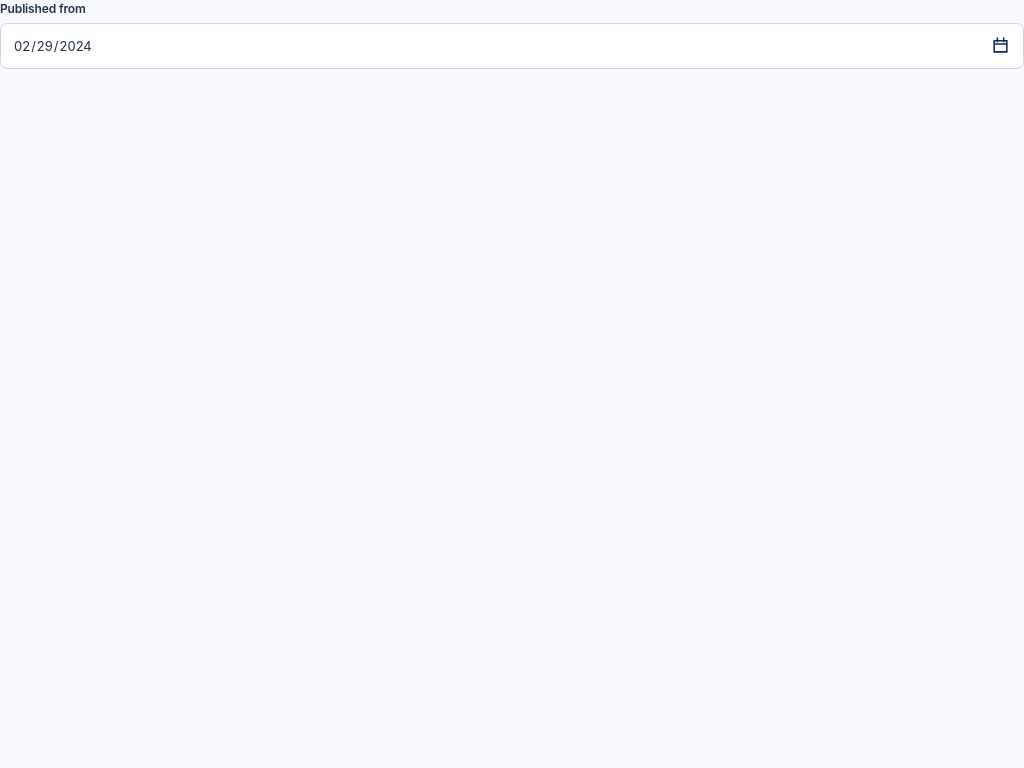
it: repeat keyboard month navigation and header selectors retain their own focus without selecting a date
Later steps or results of the test are not shown.
Click the button named "Choose date for Published from" at (1000,46), box [982, 29, 1018, 63]
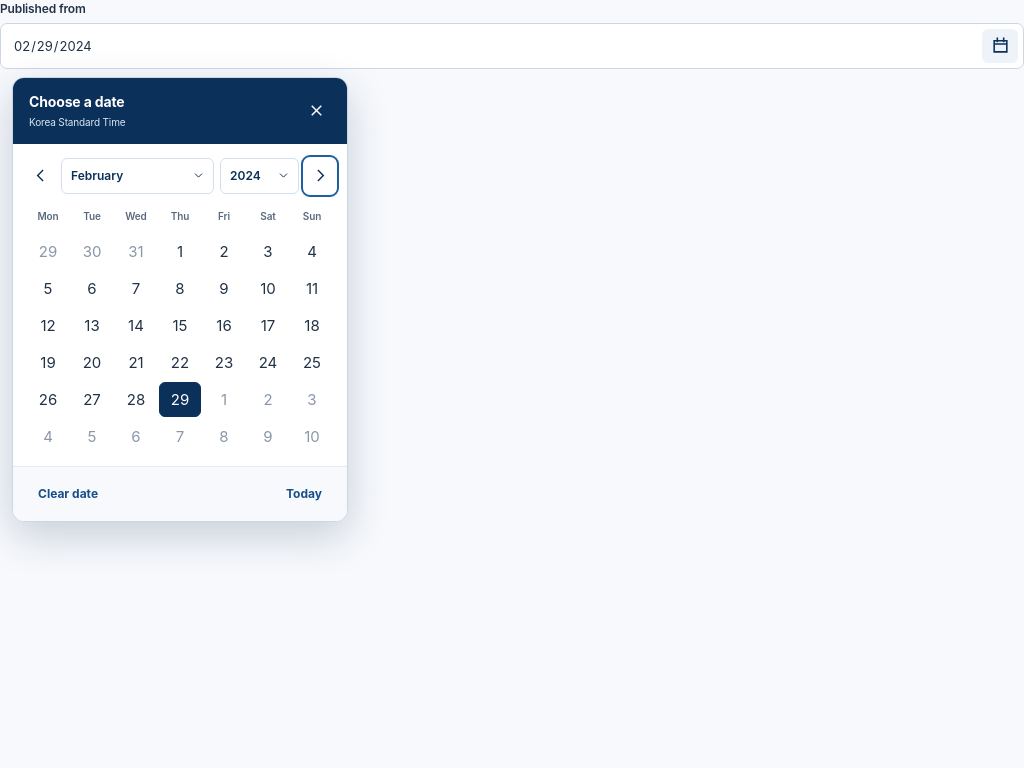
Press Enter Enter
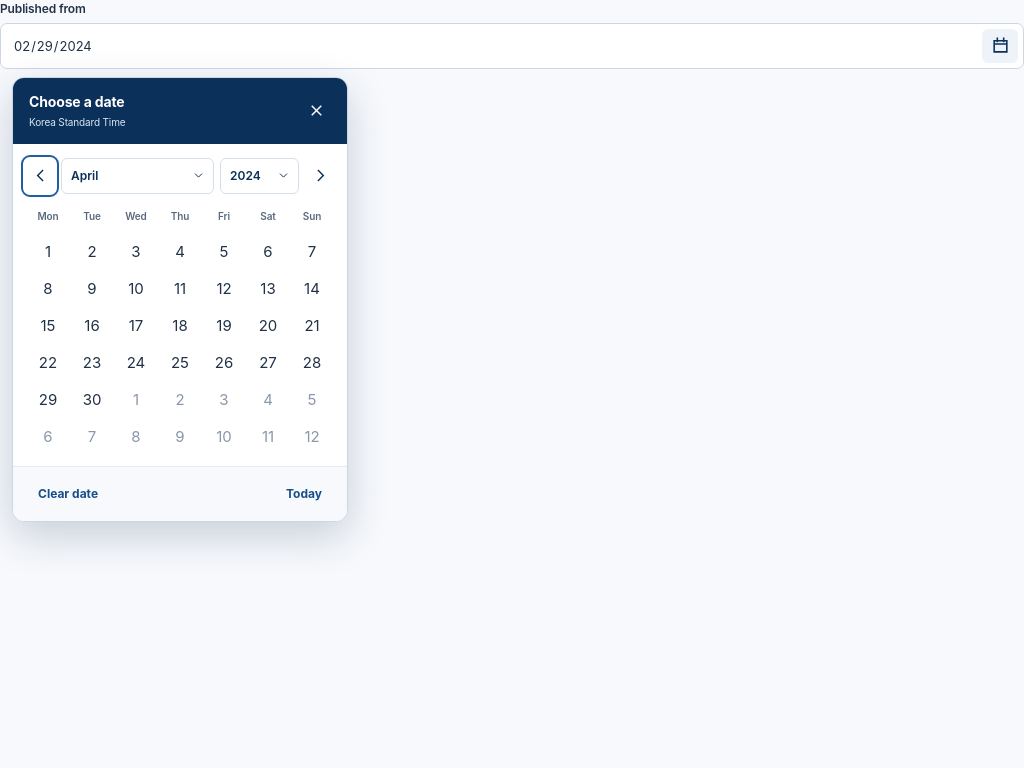
Now the dropdown named "Month" shows "April", box [61, 158, 214, 194]
Press Enter Enter
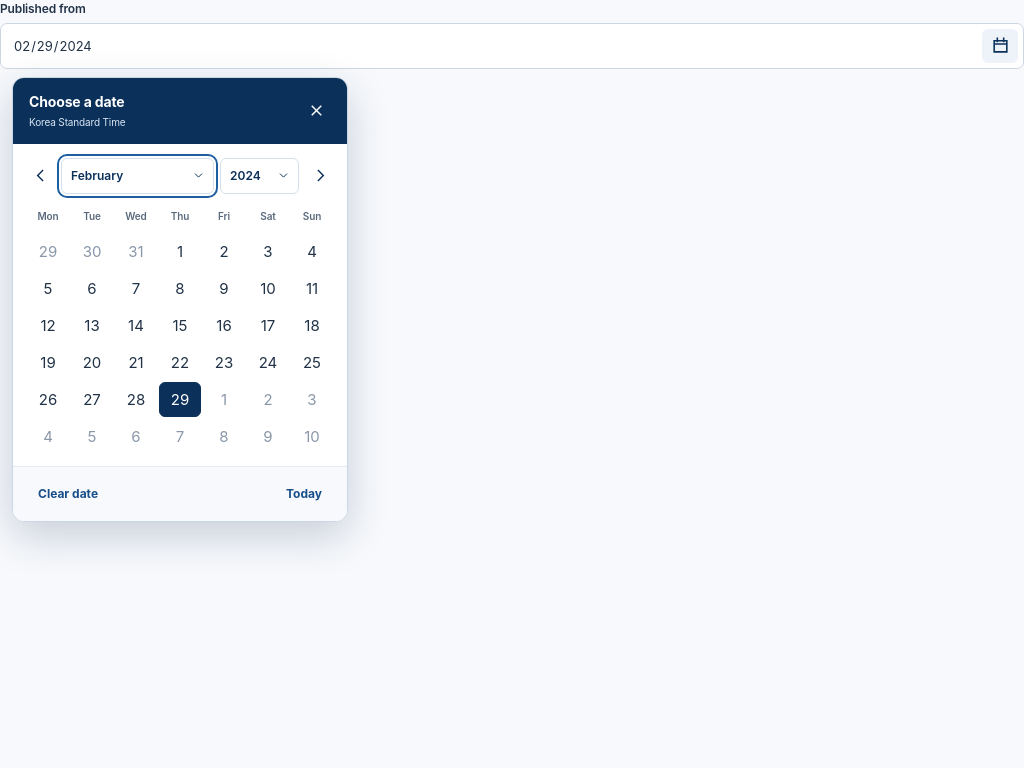
Now the dropdown named "Month" shows "February", box [61, 158, 214, 194]
